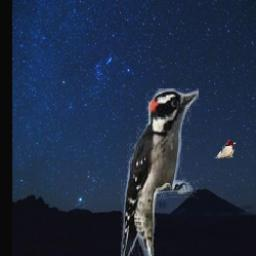Woodpecker: (121, 88, 199, 256), (213, 140, 238, 158)
